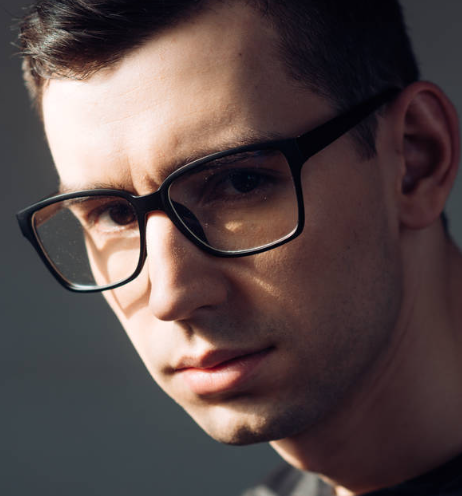glass: (12, 104, 445, 292)
mouth: (157, 336, 295, 399)
